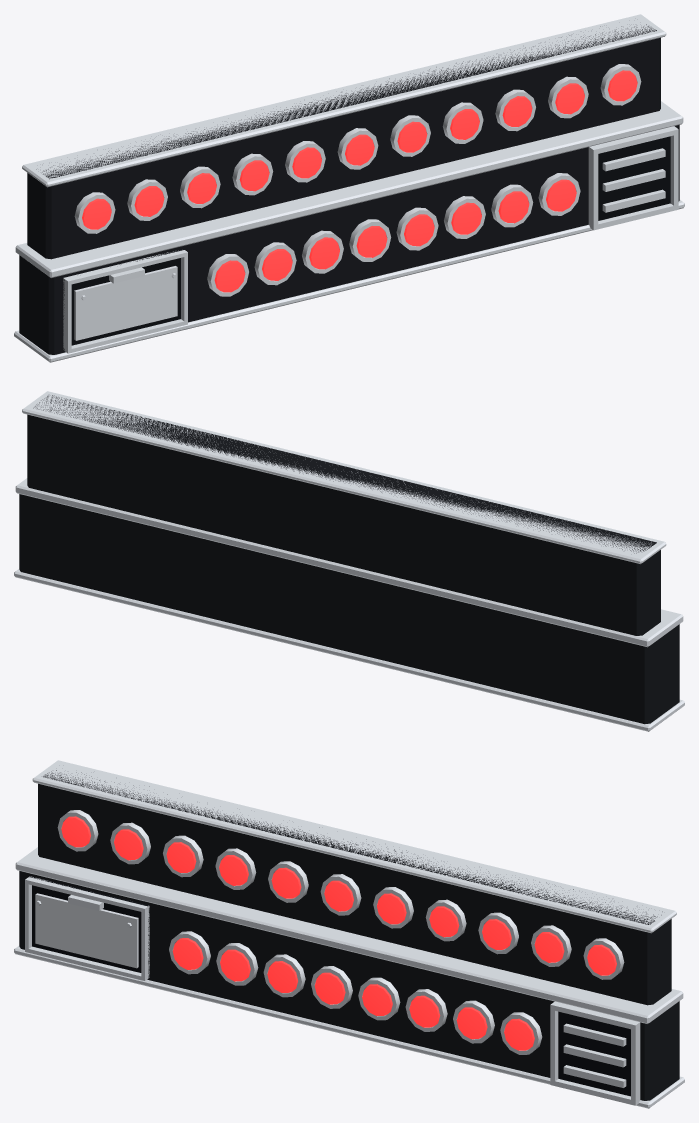
File: rb_double_deck.glb
The picture shows the model from 3 angles, top to bottom: view 1: azimuth 30°, elevation 25°; view 2: azimuth 150°, elevation 25°; view 3: azimuth 330°, elevation 25°; orthographic projection.
Parts seen in each view (by area): view 1: rb_double_deck_deco_body, rb_double_deck_chrome, rb_double_deck_lamp_tail, rb_double_deck_deco_plate, rb_double_deck_deco_trim; view 2: rb_double_deck_deco_body, rb_double_deck_chrome; view 3: rb_double_deck_deco_body, rb_double_deck_chrome, rb_double_deck_lamp_tail, rb_double_deck_deco_plate, rb_double_deck_deco_trim.
Boxes of the visible parts, box(x1,y1,x2,y2) form: rb_double_deck_deco_body: box(19, 24, 679, 354); rb_double_deck_chrome: box(14, 14, 684, 362); rb_double_deck_lamp_tail: box(82, 70, 637, 292); rb_double_deck_deco_plate: box(74, 266, 177, 340); rb_double_deck_deco_trim: box(63, 136, 670, 350); rb_double_deck_deco_body: box(19, 395, 679, 724); rb_double_deck_chrome: box(14, 391, 684, 731); rb_double_deck_deco_body: box(19, 770, 679, 1100); rb_double_deck_chrome: box(14, 760, 684, 1108); rb_double_deck_lamp_tail: box(61, 816, 616, 1050); rb_double_deck_deco_plate: box(35, 893, 138, 968); rb_double_deck_deco_trim: box(28, 876, 630, 1096).
Size of the model in its own units: 2.42 by 0.62 by 0.273.
